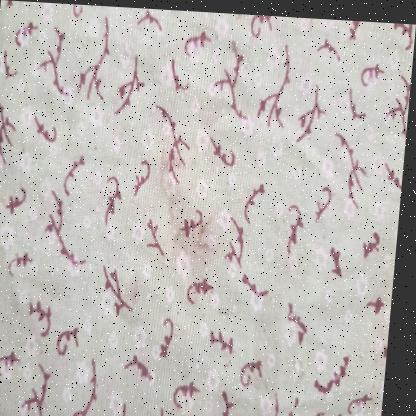spot: (159, 137, 226, 270), (126, 262, 158, 311)
